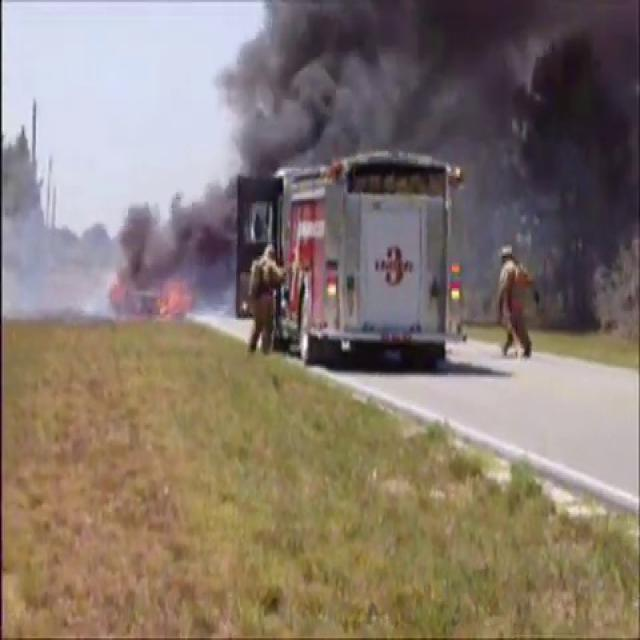Smoke: (225, 0, 640, 279), (220, 1, 639, 177), (102, 179, 226, 313)
